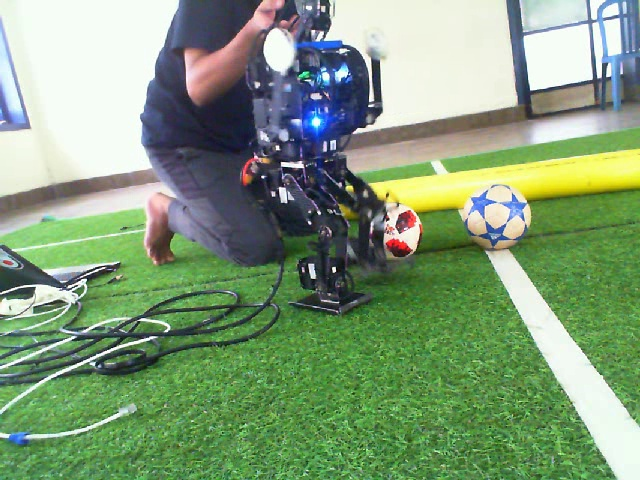ball: (460, 182, 533, 252), (380, 199, 425, 263)
